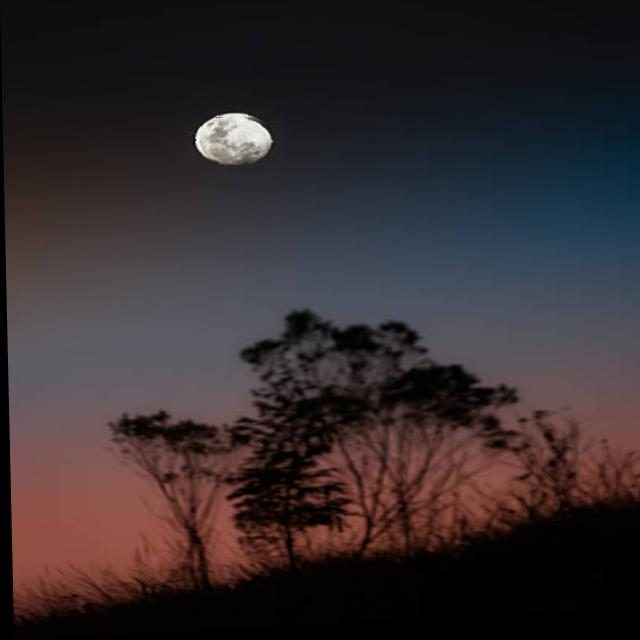moon: (192, 115, 273, 169)
